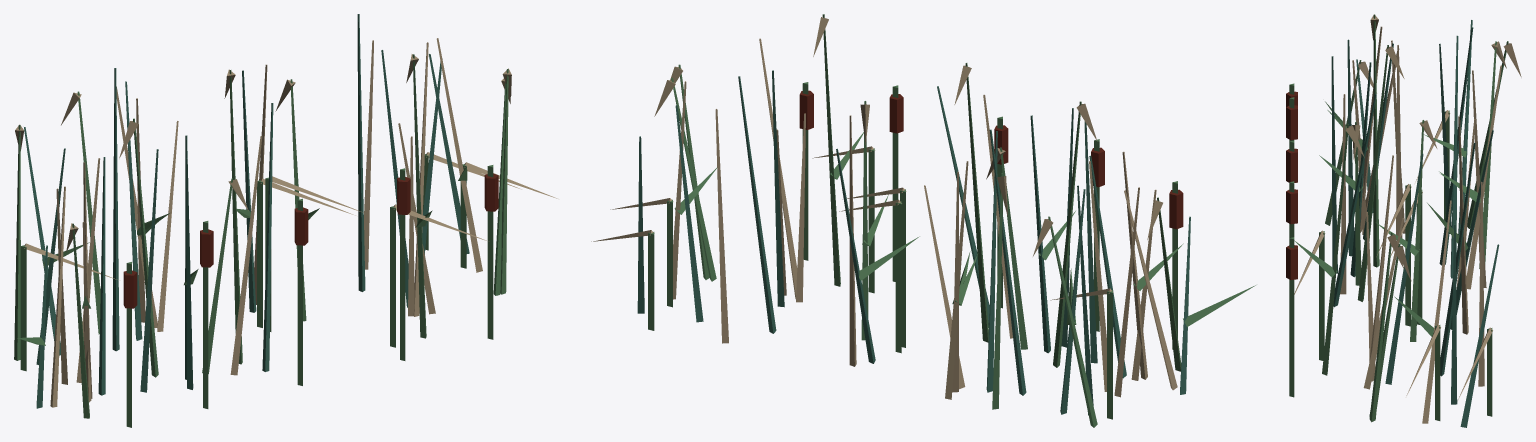
File: reed_bed.glb
3 renders of one model, left to right at view 1: azimuth 30°, elevation 25°; view 2: azimuth 150°, elevation 25°; view 3: azimuth 270°, elevation 25°, orthographic. The views are drawn at different scales.
Visible parts, largest first — view 1: moss_d15, pine_l5, driftwood_d20, coal_d50, driftwood_d28; view 2: moss_d15, pine_l5, driftwood_d20, coal_d50, driftwood_d28; view 3: moss_d15, pine_l5, driftwood_d20, coal_d50, driftwood_d28.
Part boxes in pixels (x1,y1,x2,y2): moss_d15: (14,54,508,427); pine_l5: (24,14,469,408); driftwood_d20: (24,38,557,407); coal_d50: (123,173,498,308); driftwood_d28: (15,54,511,251); moss_d15: (648,14,1255,427); pine_l5: (637,70,1190,415); driftwood_d20: (591,38,1177,399); coal_d50: (799,90,1183,229); driftwood_d28: (654,17,1162,256); moss_d15: (1289,14,1508,422); pine_l5: (1331,20,1499,427); driftwood_d20: (1294,26,1501,423); coal_d50: (1286,91,1297,279); driftwood_d28: (1346,14,1521,281).
Size of the model in its own units: 3.74 by 1.71 by 1.41.
